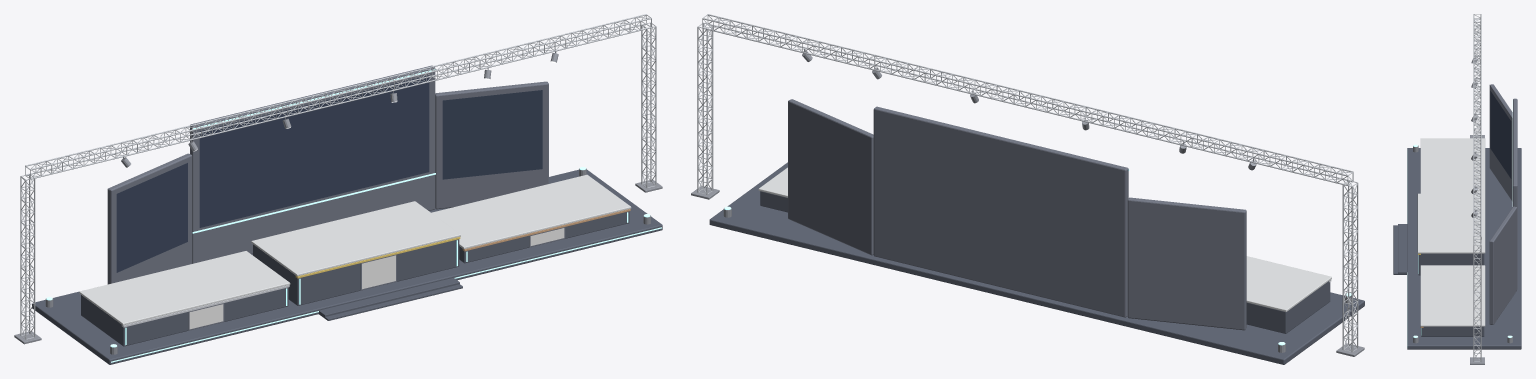
File: podium-teams.glb
3 renders of one model, left to right at view 1: azimuth 30°, elevation 25°; view 2: azimuth 150°, elevation 25°; view 3: azimuth 270°, elevation 25°, orthographic. The views are drawn at different scales.
Visible parts, largest first — view 1: tops, screen_center, backdrop, stage, truss, tiers, screen_right, screen_left, led, metal, numeral_1, numeral_2; view 2: backdrop, truss, stage, tops, tiers, metal; view 3: tops, stage, backdrop, truss, tiers, screen_left, metal, led.
Boxes of the visible parts, left/top/right/bottom form: tops: left=79, top=174, right=631, bottom=325; screen_center: left=199, top=75, right=429, bottom=227; backdrop: left=107, top=65, right=548, bottom=284; stage: left=32, top=169, right=662, bottom=364; truss: left=20, top=14, right=656, bottom=339; tiers: left=81, top=211, right=629, bottom=346; screen_right: left=442, top=90, right=542, bottom=179; screen_left: left=116, top=163, right=187, bottom=272; led: left=46, top=69, right=661, bottom=362; metal: left=14, top=51, right=662, bottom=354; numeral_1: left=362, top=255, right=395, bottom=289; numeral_2: left=189, top=304, right=223, bottom=329; backdrop: left=788, top=99, right=1246, bottom=330; truss: left=697, top=14, right=1358, bottom=352; stage: left=709, top=162, right=1364, bottom=364; tops: left=758, top=167, right=1331, bottom=311; tiers: left=760, top=191, right=1330, bottom=333; metal: left=691, top=49, right=1364, bottom=356; tops: left=1417, top=138, right=1485, bottom=326; stage: left=1393, top=148, right=1521, bottom=349; backdrop: left=1489, top=84, right=1517, bottom=324; truss: left=1473, top=14, right=1481, bottom=361; tiers: left=1418, top=253, right=1484, bottom=336; screen_left: left=1490, top=91, right=1511, bottom=178; metal: left=1413, top=55, right=1512, bottom=364; led: left=1407, top=100, right=1512, bottom=347.
Size of the model in its own units: 94.6 by 24.24 by 22.4.
